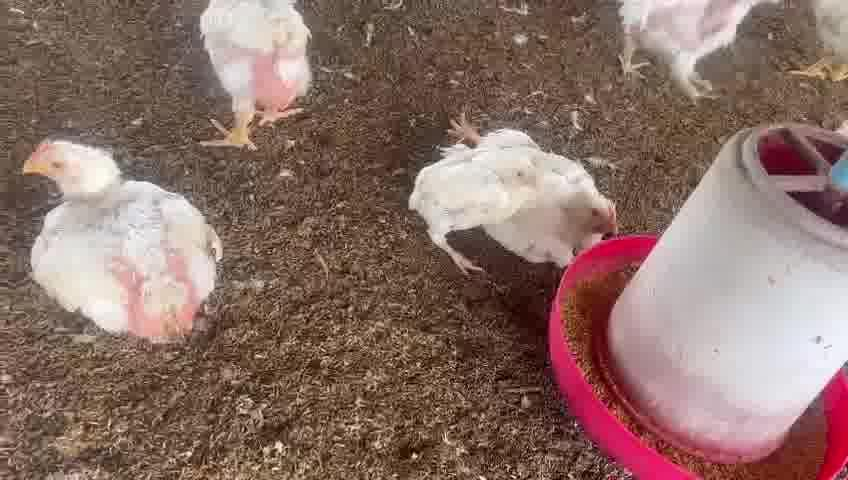AbNormal: (439, 112, 621, 245), (420, 153, 534, 270)
Normal: (20, 139, 228, 343), (196, 0, 344, 149), (625, 0, 759, 100)
